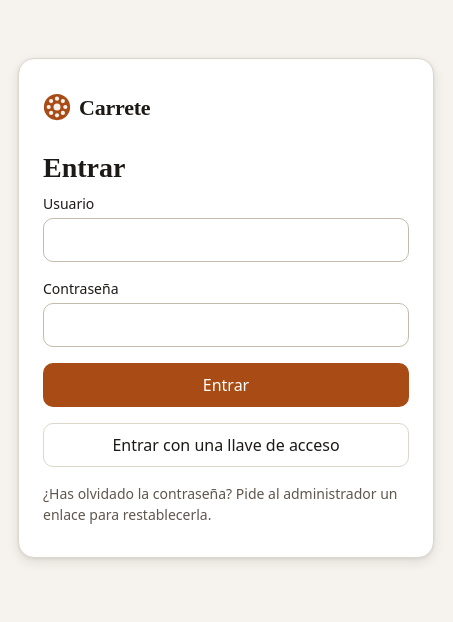
Test case: llaves de acceso › explica que se ha cancelado
Click the button "Entrar con una llave de acceso".
click(226, 445)  # box [43,423,409,467]
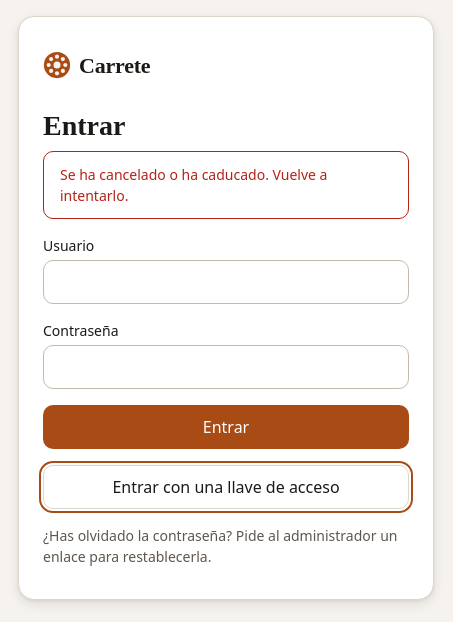
Result: the text "Se ha cancelado o ha caducado. Vuelve a intentarlo." is shown at [43,151,409,219]
